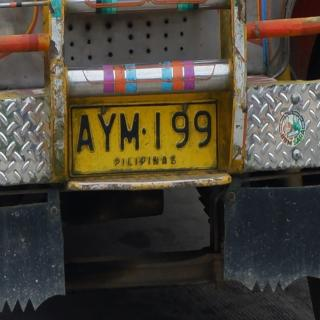license: (72, 103, 219, 177)
